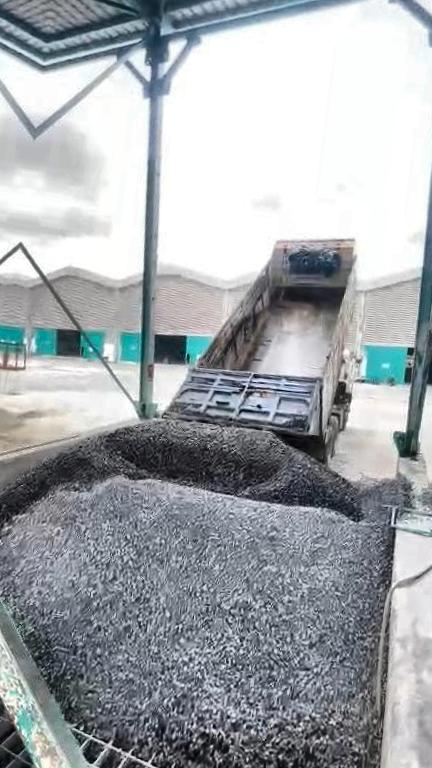gravel: (0, 439, 416, 768), (35, 418, 361, 519)
sand: (0, 407, 44, 452)
